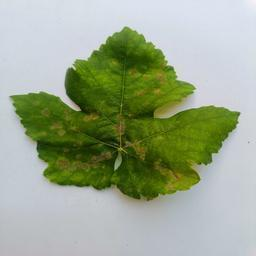Powdery-Mildew: (56, 151, 115, 181), (129, 62, 169, 97), (133, 125, 168, 159), (39, 106, 72, 140), (196, 112, 228, 139), (96, 68, 112, 85), (84, 111, 100, 127)
